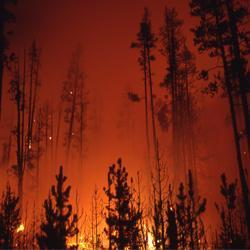fire: (73, 234, 91, 250), (146, 231, 156, 250), (13, 224, 29, 232)
